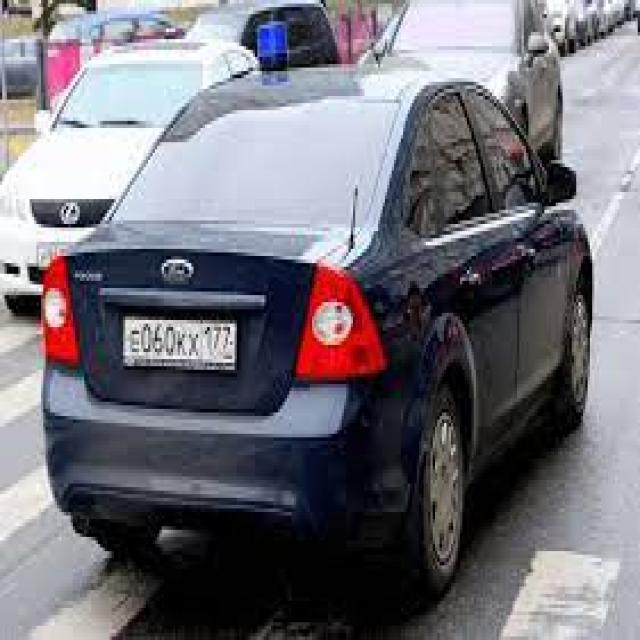number-plates: (121, 317, 238, 373)
